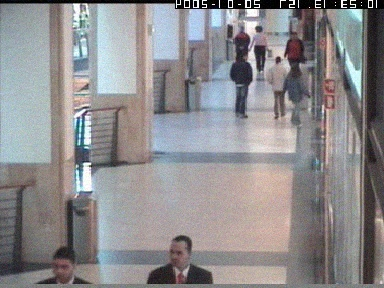person: (147, 235, 213, 285), (34, 247, 96, 285), (281, 63, 309, 126), (265, 55, 289, 118), (229, 54, 252, 117), (282, 31, 304, 85), (247, 26, 271, 72), (231, 26, 249, 65), (224, 8, 236, 39)
